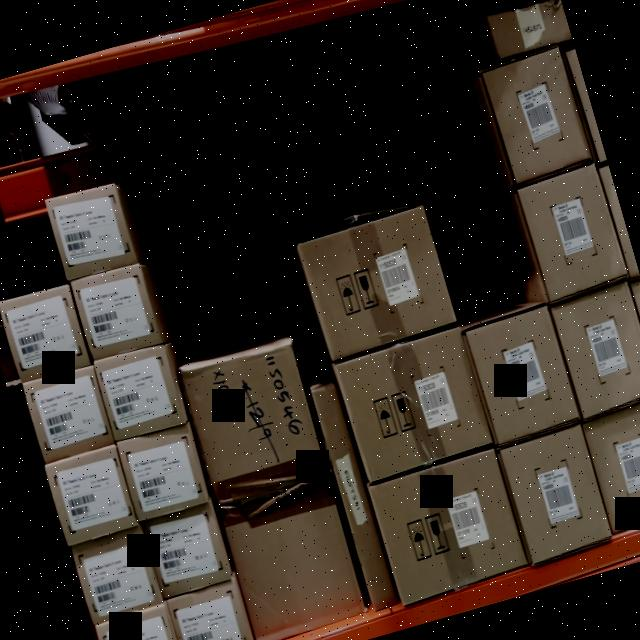box: (180, 340, 369, 640), (371, 450, 528, 606), (336, 332, 494, 479), (298, 210, 454, 354), (314, 390, 397, 608), (464, 304, 580, 444), (496, 426, 610, 560), (518, 166, 626, 298), (482, 53, 591, 181), (552, 288, 640, 414), (45, 447, 138, 545), (70, 262, 160, 360), (117, 424, 207, 521), (0, 286, 90, 382), (24, 367, 114, 462), (95, 346, 185, 438), (46, 184, 136, 276), (72, 530, 162, 622), (144, 504, 232, 597), (581, 400, 640, 532), (168, 583, 254, 640), (96, 607, 187, 640)
